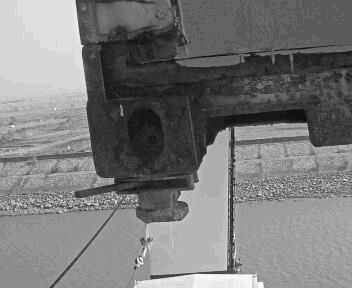twist_lock_1: (155, 89, 182, 115)
